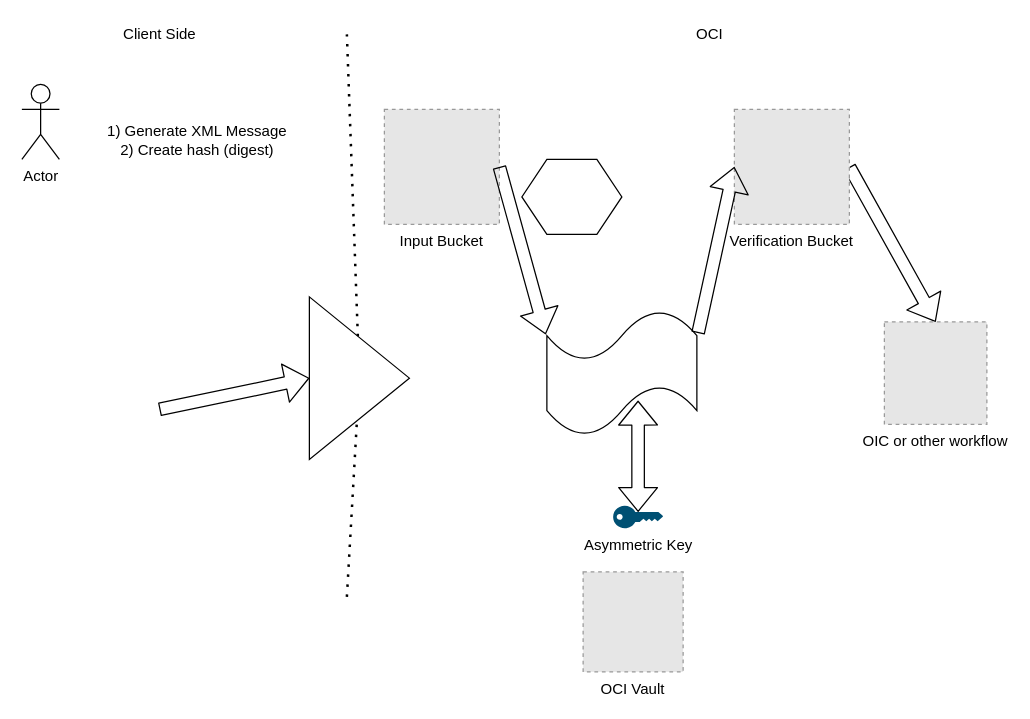
Image size: 1030x719. Some labels were removed from this diagram. Grey dashed boxes stand in for pictures. The shapes that lost their labels are listed below. From the top down, each one's centre as x and y in pixels, then its label:
(x=571, y=196): Insert or Update Event
(x=358, y=377): OCI CLI or SDK
(x=621, y=372): Verification Function
